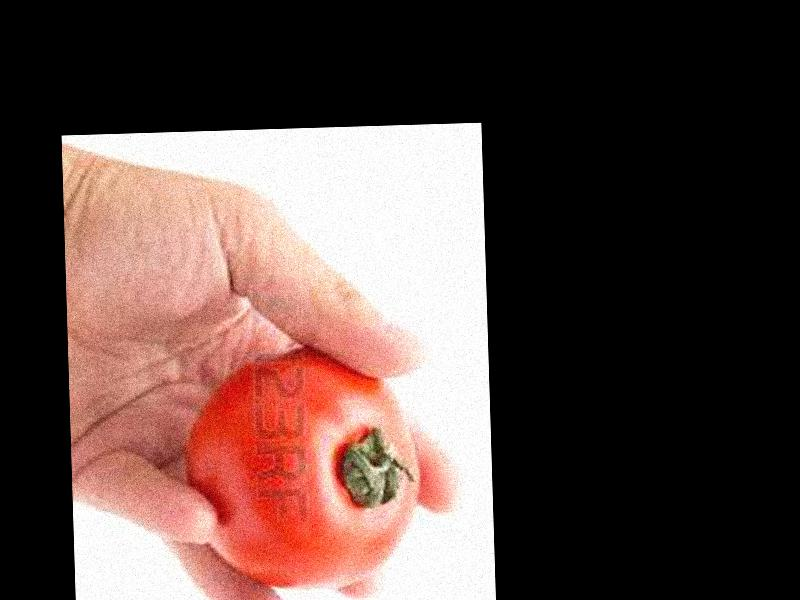Tomato: (183, 347, 422, 593)
